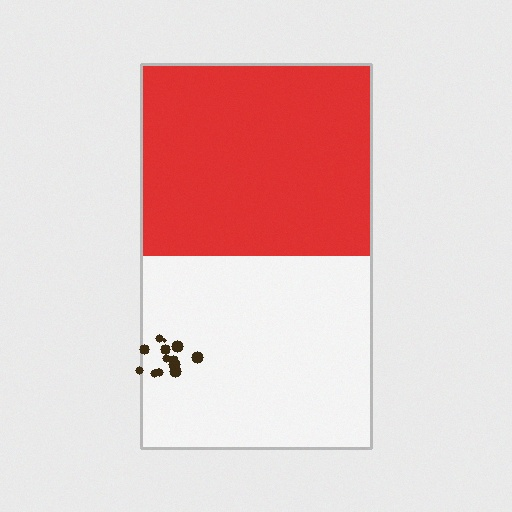contamination: (131, 330, 207, 381)
